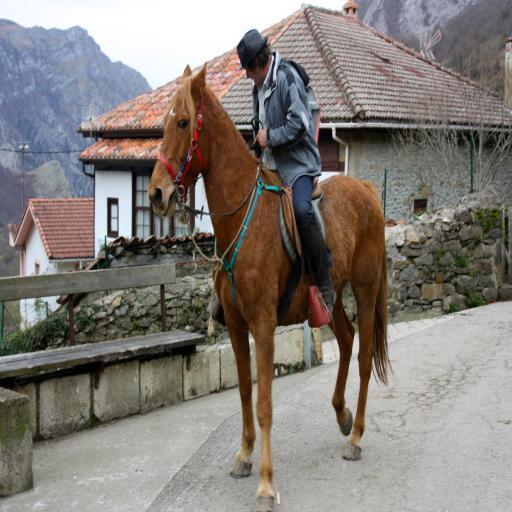horse: (143, 61, 395, 512)
